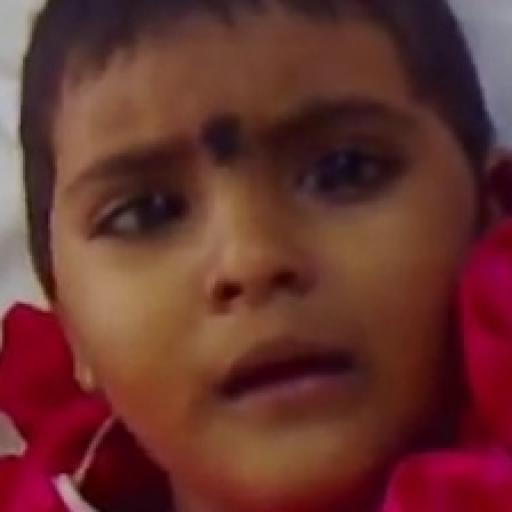Autism: (44, 23, 509, 479)
